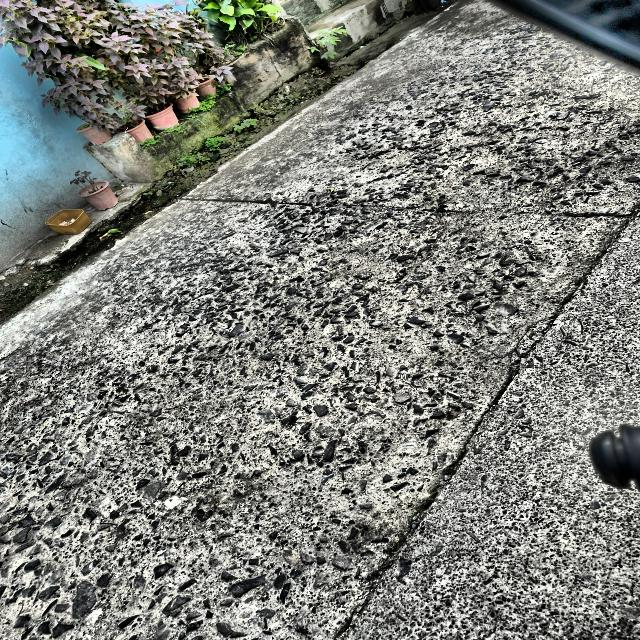major_scaling: (0, 65, 624, 624)
